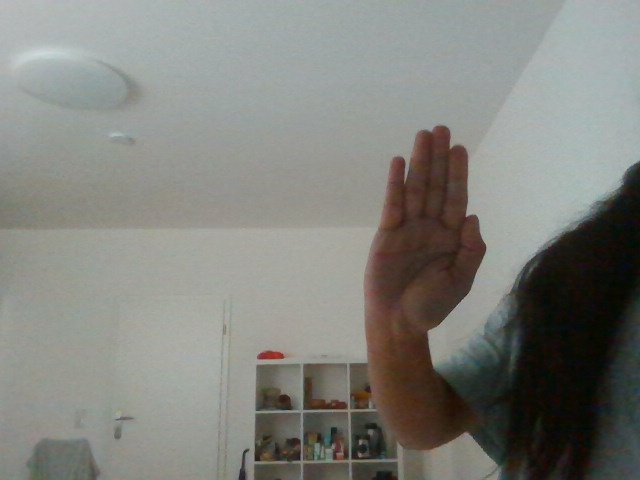Palm: (360, 123, 495, 341)
